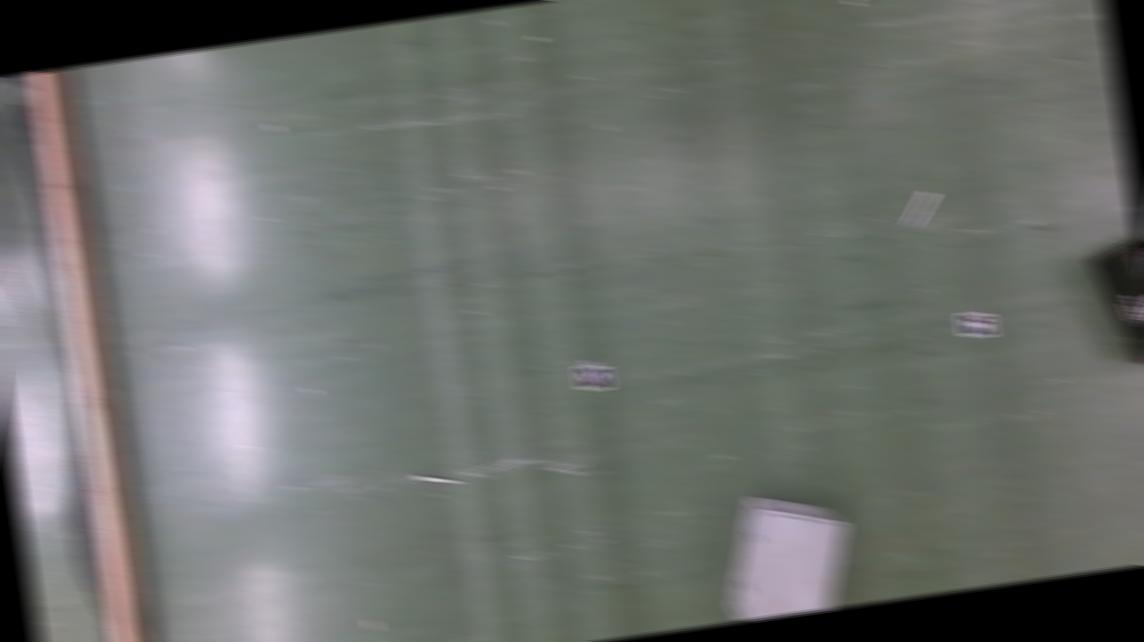probes: (902, 189, 940, 226), (413, 470, 458, 488)
rako: (715, 482, 859, 622), (1085, 229, 1144, 374)
